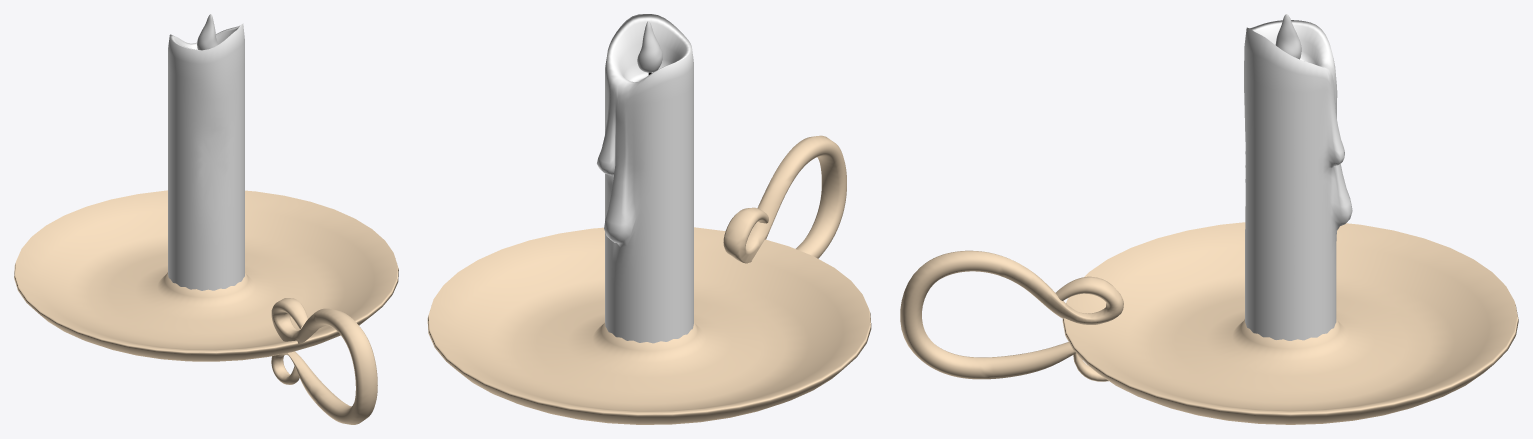
The model's file is candle 2.fbx.
The picture shows the model from 3 angles, left to right: view 1: azimuth 30°, elevation 25°; view 2: azimuth 150°, elevation 25°; view 3: azimuth 270°, elevation 25°; orthographic projection. The views are drawn at different scales.
Visible parts, largest first — view 1: pCylinder4, pCylinder1, nurbsToPoly1, pSphere1; view 2: pCylinder4, pCylinder1, nurbsToPoly1, pSphere1; view 3: pCylinder4, pCylinder1, nurbsToPoly1, pSphere1.
Boxes of the visible parts, left/top/right/bottom form: pCylinder4: left=14, top=190, right=398, bottom=361; pCylinder1: left=168, top=23, right=244, bottom=290; nurbsToPoly1: left=271, top=298, right=377, bottom=424; pSphere1: left=197, top=14, right=218, bottom=50; pCylinder4: left=427, top=227, right=871, bottom=424; pCylinder1: left=597, top=14, right=693, bottom=343; nurbsToPoly1: left=723, top=135, right=846, bottom=263; pSphere1: left=637, top=21, right=662, bottom=72; pCylinder4: left=1062, top=222, right=1518, bottom=424; pCylinder1: left=1244, top=20, right=1352, bottom=340; nurbsToPoly1: left=900, top=250, right=1123, bottom=381; pSphere1: left=1275, top=14, right=1301, bottom=59.
Size of the model in its own units: 9.88 by 8.8 by 13.39.
